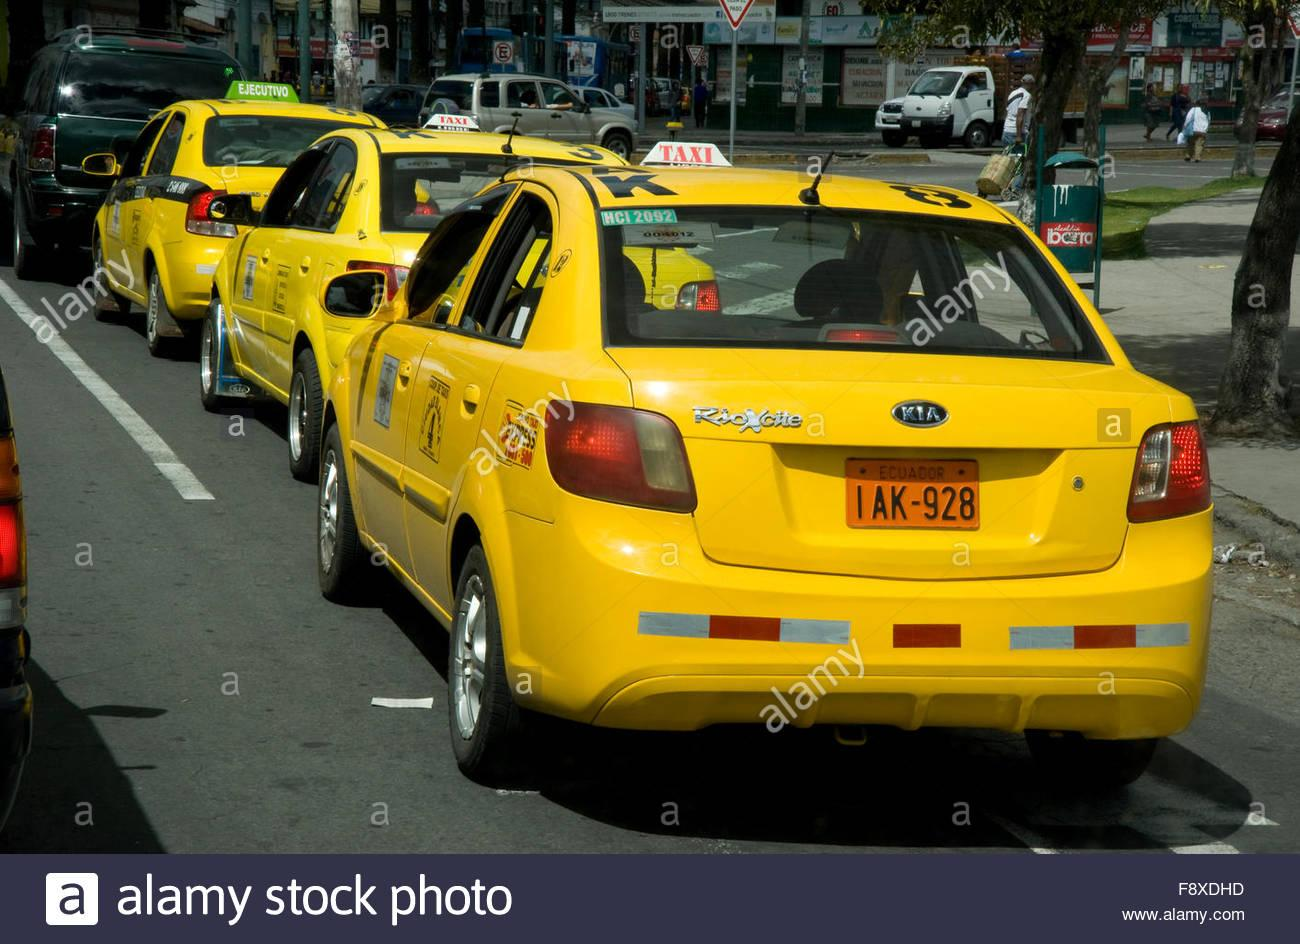taxi: (323, 149, 1232, 786)
